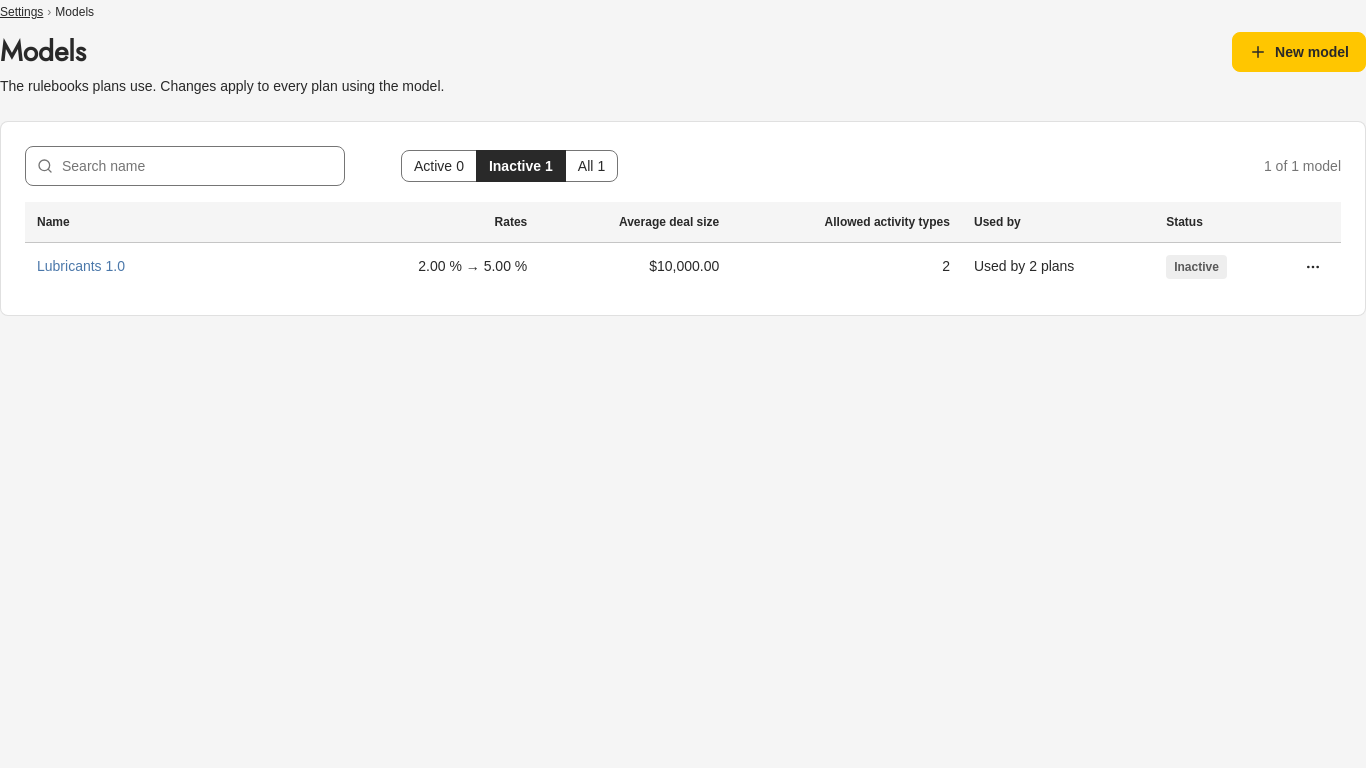
Test: ModelsPage: status and delete (US1 scenario 7, FR-004) › says an inactive model in use is already inactive, with Close only
The width and height of the screenshot is (1366, 768).
Expected: the table is shown, [25,202,1341,290]
Click the button named "Actions for Lubricants 1.0".
click(1313, 266)  # box [1297,250,1329,282]
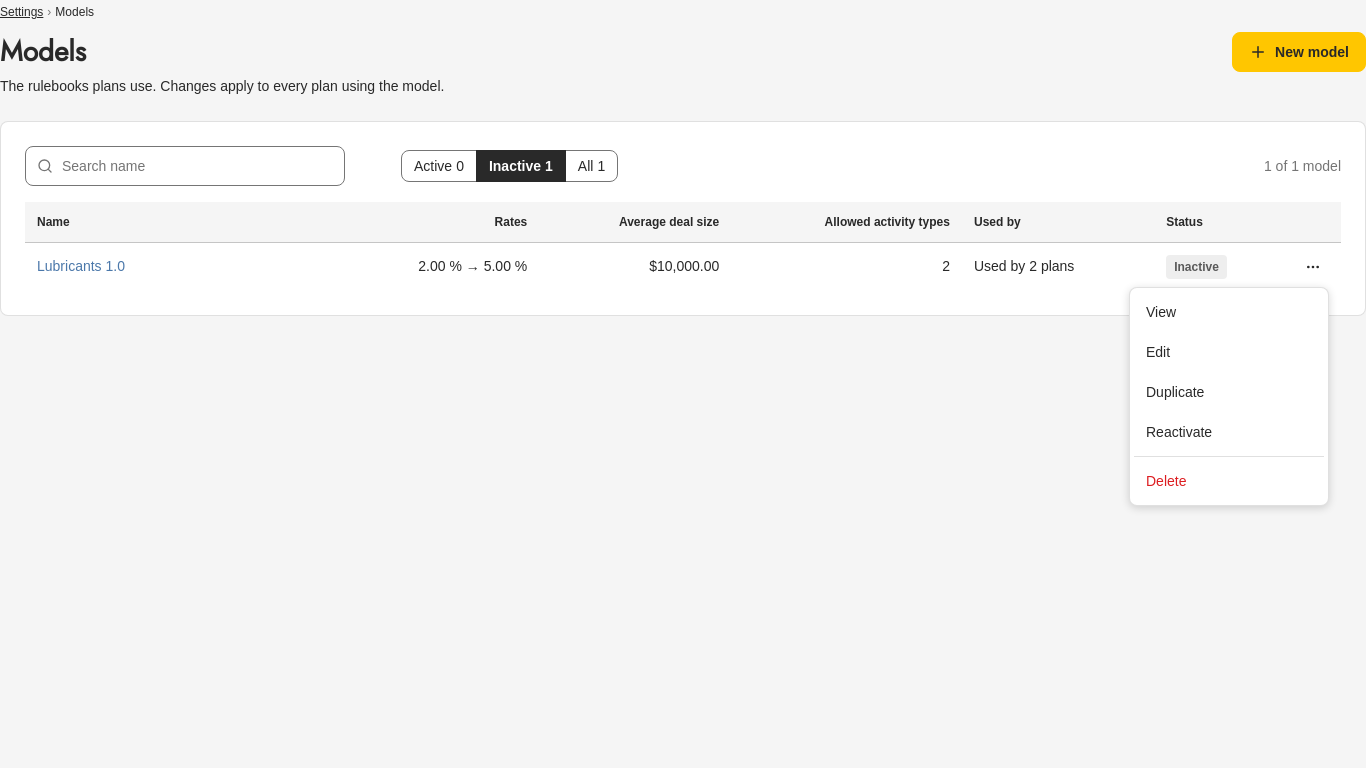
Click the menu item "Delete".
click(1166, 481)  # box [1146,473,1186,489]
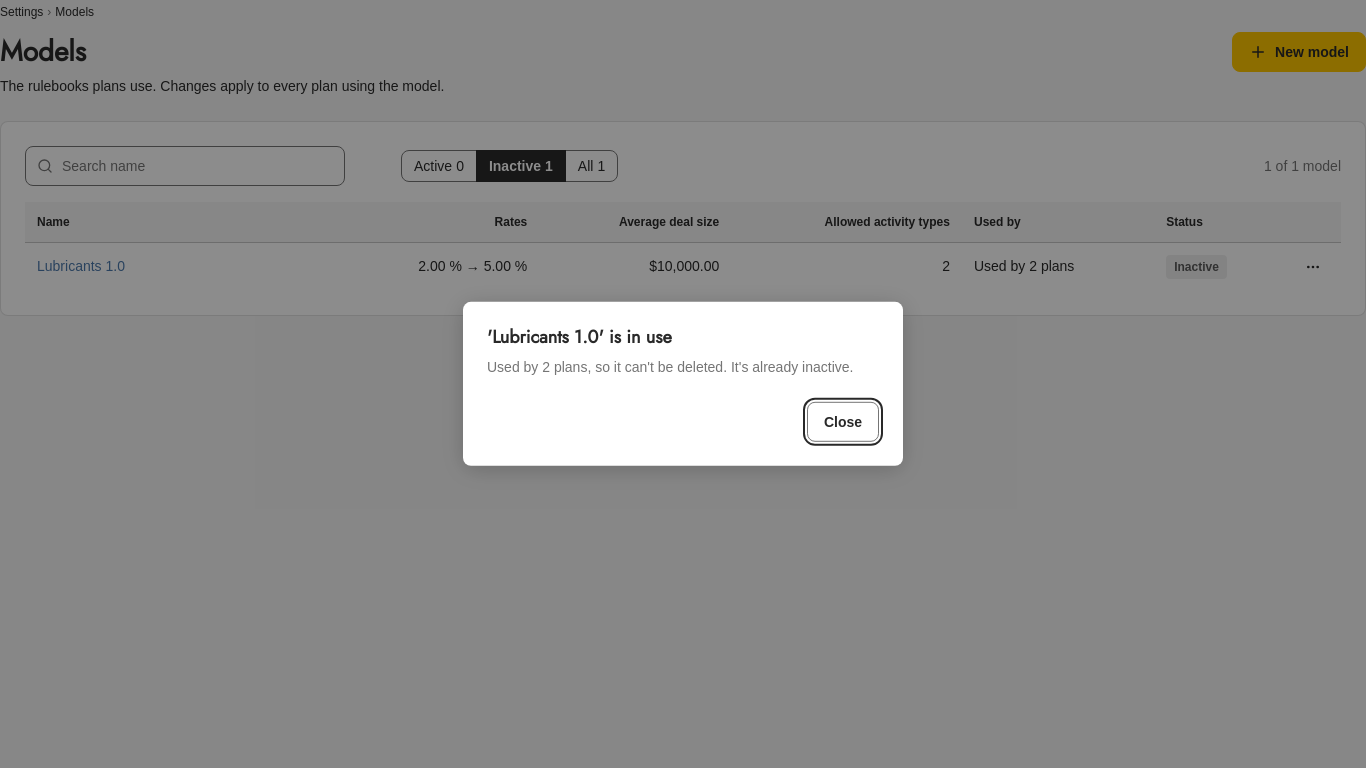
Now the dialog shows "Used by 2 plans, so it can't be deleted. It's already inactive.", box [487,359,854,375]
Now the buttons read "Close", in this order, box [807,402,879,442]
